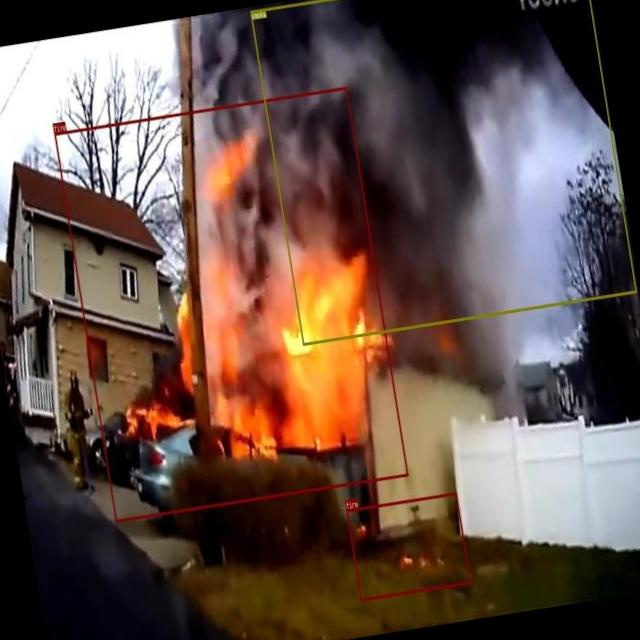fire: (54, 86, 408, 521), (346, 492, 471, 600)
smoke: (249, 0, 636, 345)
